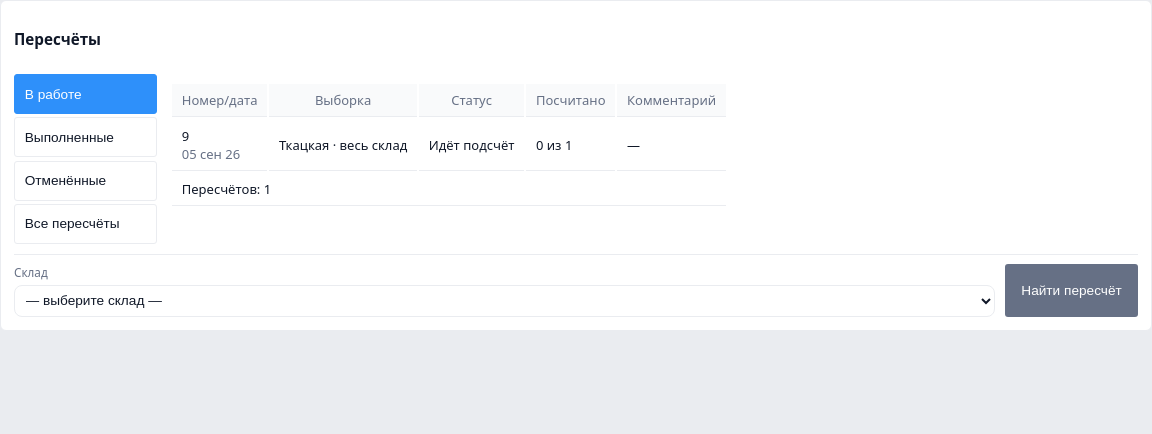
Scenario: журнал пересчётов › «Выполненные» показывает и завершённый подсчёт, и проведённый
Expected: the text "Идёт подсчёт" is shown, [419, 119, 524, 171]
Click the button "Выполненные" at (86,137), box [14, 117, 157, 157]
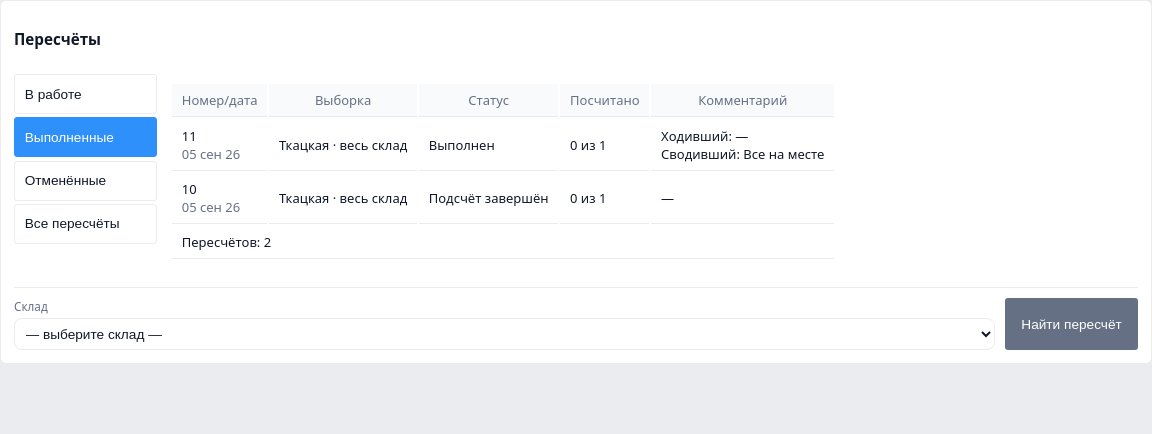
Now the text "Выполнен" is shown, box [419, 119, 558, 171]
Now the text "Подсчёт завершён" is shown, box [419, 173, 558, 224]
Now the text "Идёт подсчёт" is gone
Click the button "Все пересчёты" at (86,224), box [14, 204, 157, 244]
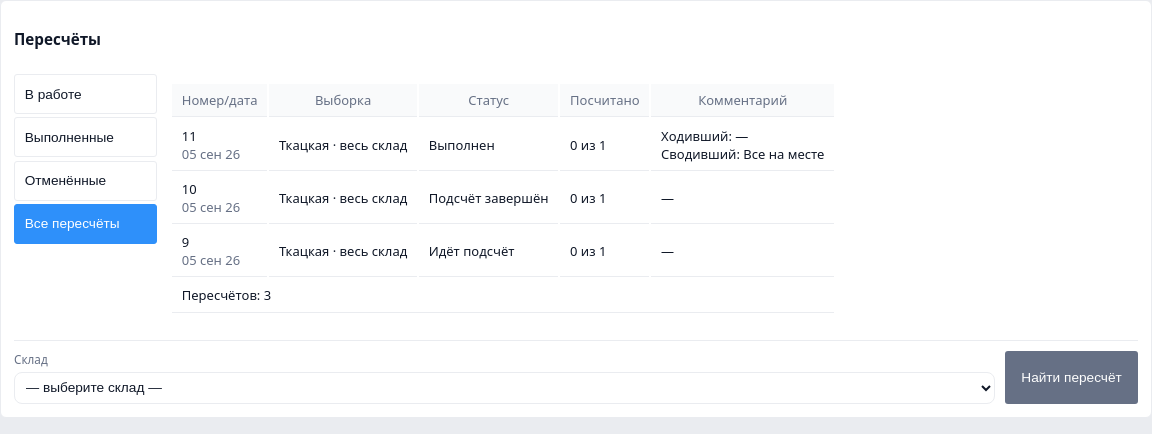
Now the text "Выполнен" is shown, box [419, 119, 558, 171]
Now the text "Пересчётов: 3" is shown, box [172, 279, 834, 313]
